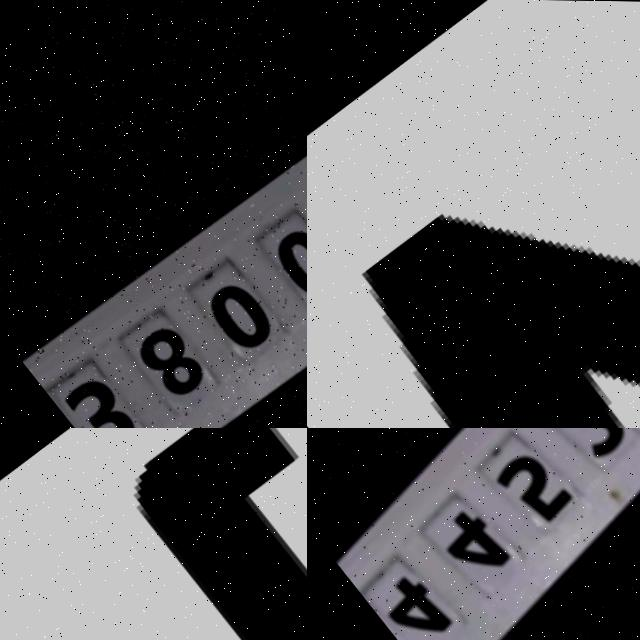0: (154, 242, 307, 397), (226, 191, 307, 339)
2: (524, 428, 640, 485)
3: (34, 346, 167, 428)
4: (407, 488, 528, 609), (351, 555, 467, 640)
5: (465, 429, 588, 554)
8: (86, 290, 240, 428)
T: (65, 428, 307, 640)
V: (307, 3, 640, 428)
